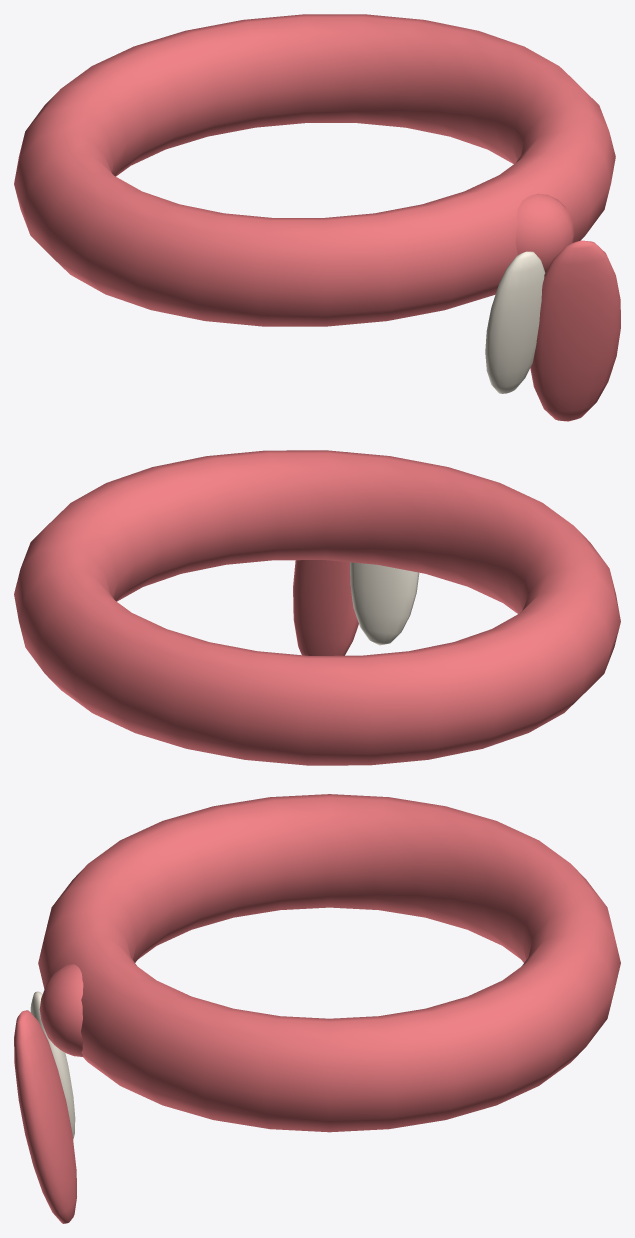
File: scarf.glb
3 renders of one model, top to bottom at view 1: azimuth 30°, elevation 25°; view 2: azimuth 150°, elevation 25°; view 3: azimuth 270°, elevation 25°, orthographic. The views are drawn at different scales.
Visible parts, largest first — view 1: ScarfCollar, ScarfTail1, ScarfTail2, ScarfKnot; view 2: ScarfCollar, ScarfTail1, ScarfTail2; view 3: ScarfCollar, ScarfTail1, ScarfKnot, ScarfTail2.
Boxes of the visible parts, x1,y1,x2,y2 form: ScarfCollar: (14, 14, 615, 326); ScarfTail1: (530, 240, 620, 421); ScarfTail2: (485, 251, 545, 393); ScarfKnot: (515, 193, 574, 272); ScarfCollar: (14, 450, 620, 765); ScarfTail1: (293, 560, 358, 655); ScarfTail2: (350, 562, 419, 645); ScarfCollar: (38, 794, 620, 1132); ScarfTail1: (14, 1010, 76, 1223); ScarfKnot: (39, 964, 83, 1056); ScarfTail2: (30, 991, 75, 1139).
Bounding box in the file's own units: 0.87 × 0.377 × 0.8336.
